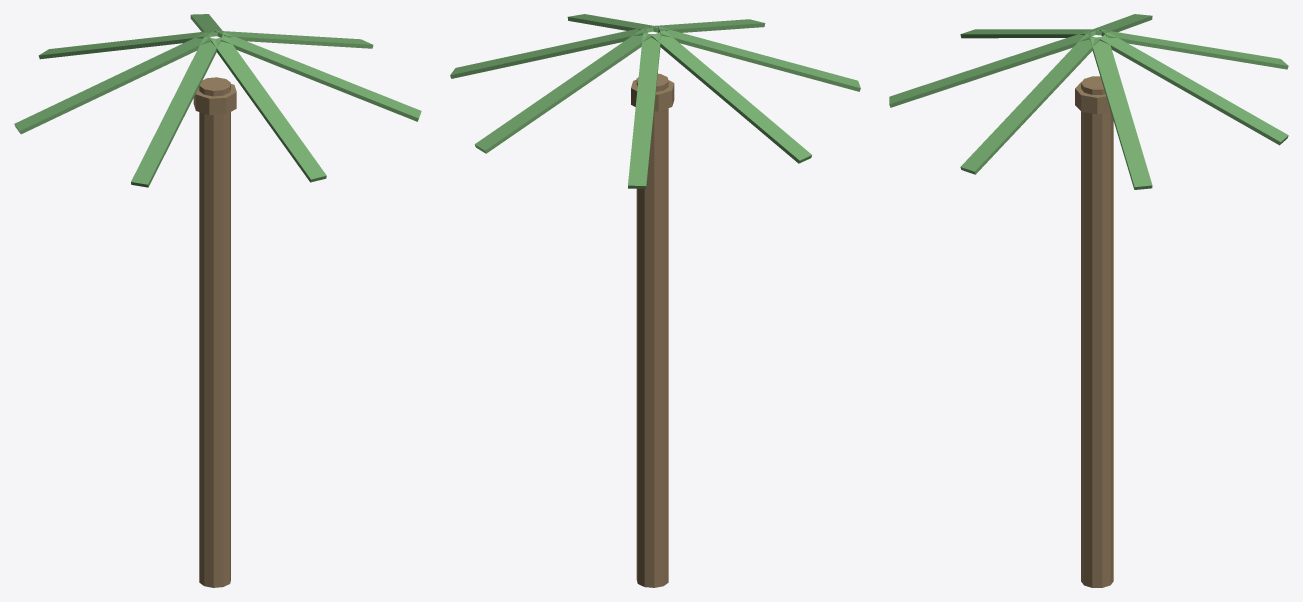
File: palm_01.glb
3 renders of one model, left to right at view 1: azimuth 30°, elevation 25°; view 2: azimuth 150°, elevation 25°; view 3: azimuth 270°, elevation 25°, orthographic.
Visible parts, largest first — view 1: Palm, Frond; view 2: Palm, Frond; view 3: Palm, Frond.
Part boxes in pixels (bbox=[...]): Palm: bbox=[193, 77, 236, 587]; Frond: bbox=[14, 14, 421, 187]; Palm: bbox=[631, 73, 674, 587]; Frond: bbox=[450, 14, 860, 188]; Palm: bbox=[1075, 76, 1113, 587]; Frond: bbox=[889, 14, 1288, 189].
Bounding box in the file's own units: 4.02 × 5.93 × 3.92.
